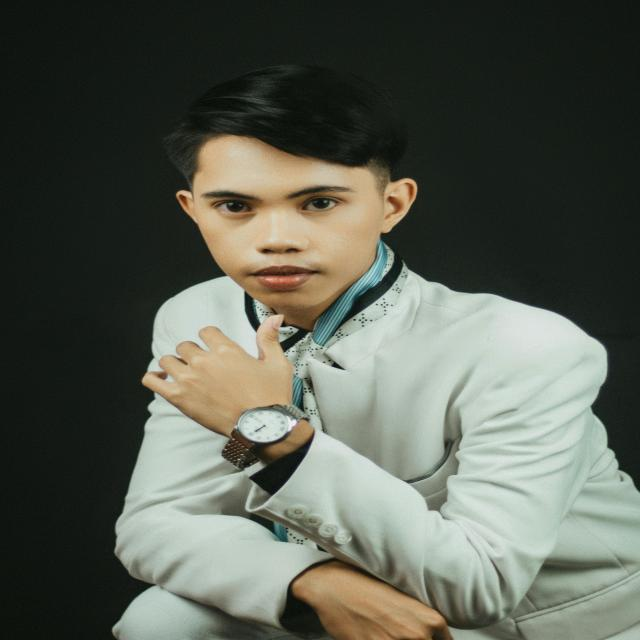relogio: (217, 402, 315, 469)
